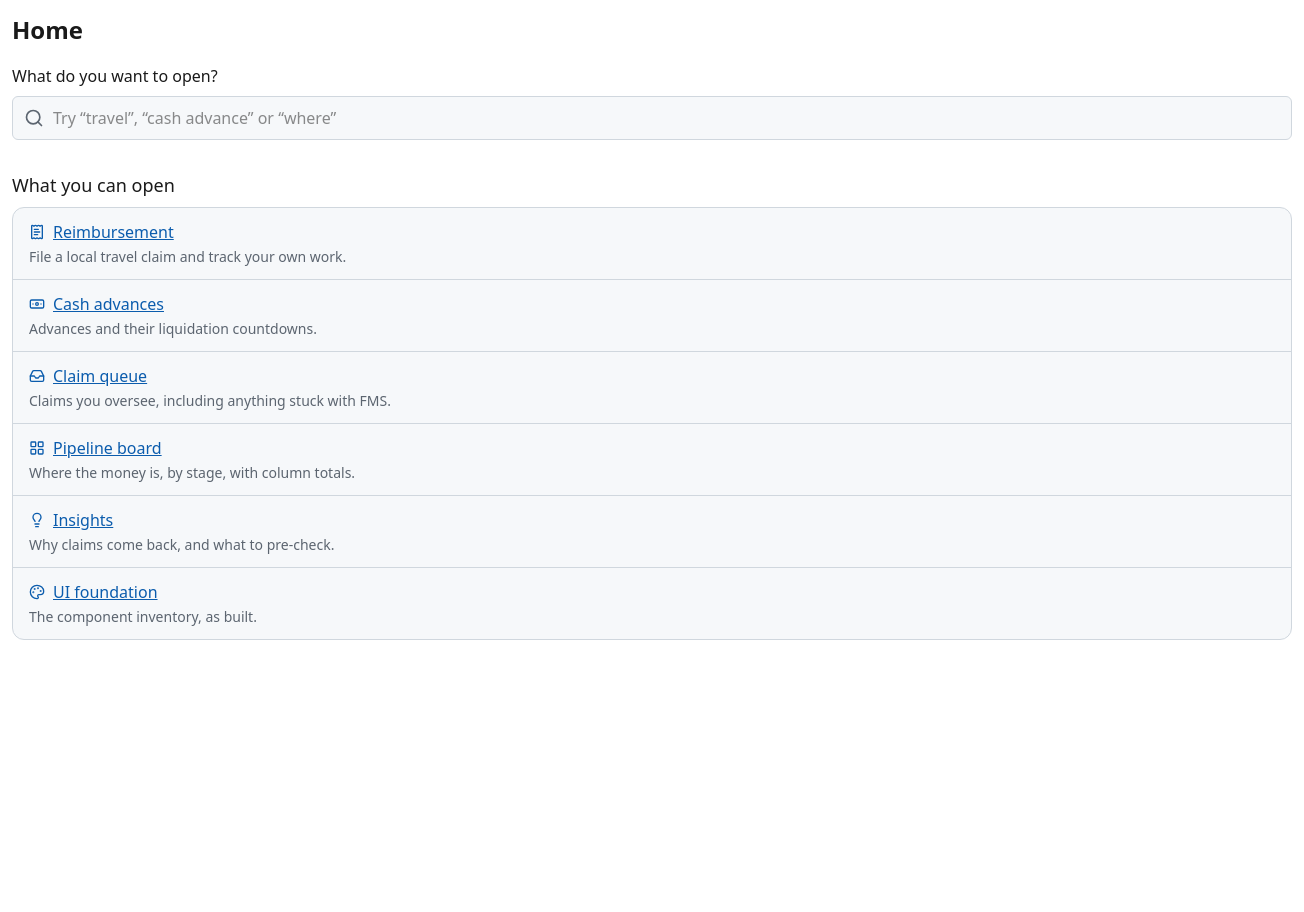
Test: HomePage › narrows the list to matches as you type
This screenshot has width=1304, height=912.
Type "queue" into the search field labelled "What do you want to open?".
click(652, 118); type("queue")  # box [12, 96, 1292, 140]
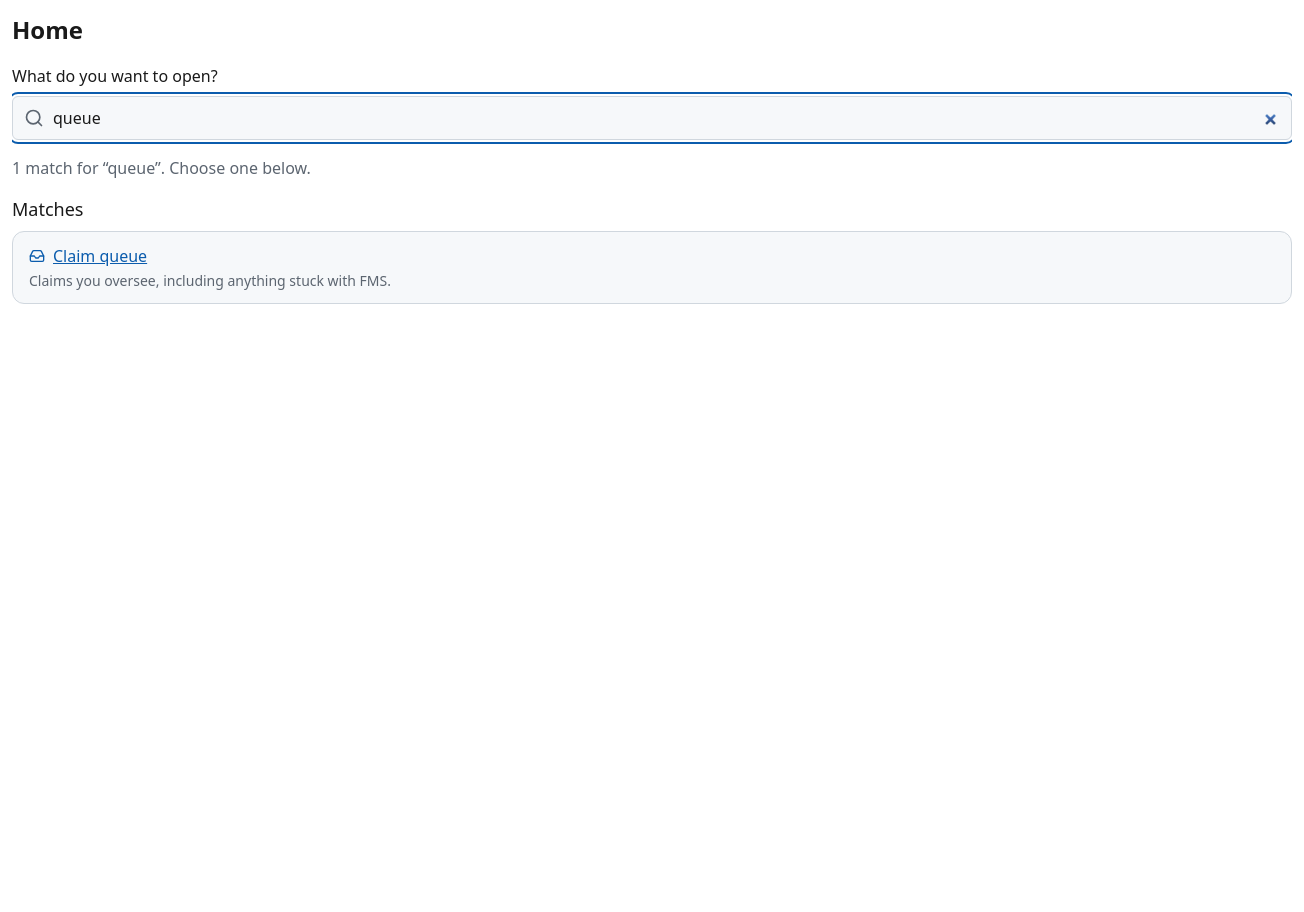
expect the link "Claim queue" is shown: met, box [29, 245, 391, 290]
expect the link "Cash advances" is gone: met
expect the message shows "1 match for “queue”": met, box [12, 157, 311, 179]
